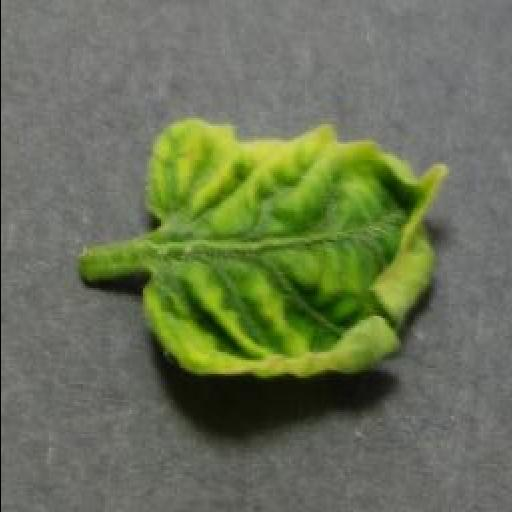disease_tomato: (140, 116, 448, 380)
